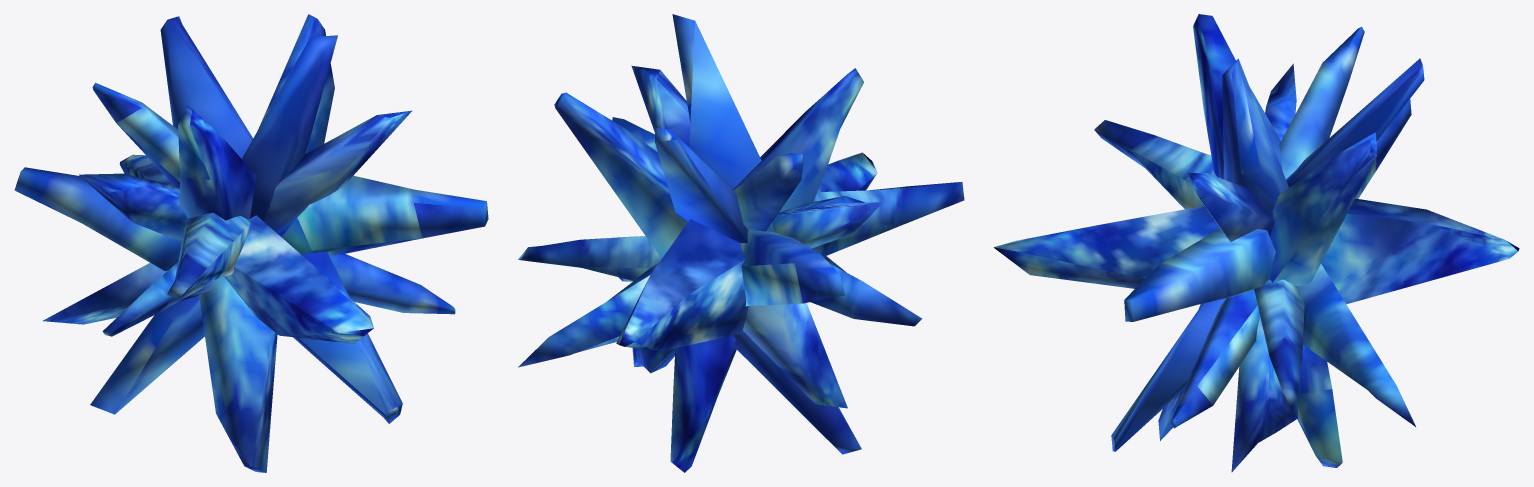
3 views of the same model, side by side, from view 1: azimuth 30°, elevation 25°; view 2: azimuth 150°, elevation 25°; view 3: azimuth 270°, elevation 25° (orthographic). The views are drawn at different scales.
Visible parts, largest first — view 1: gg; view 2: gg; view 3: gg.
Boxes of the visible parts, <box> form: gg: <box>14,14,488,472</box>; gg: <box>518,14,964,472</box>; gg: <box>994,14,1519,472</box>.
Bounding box in the file's own units: 1.89 × 1.93 × 2.15.
1 material, 1 textured.
